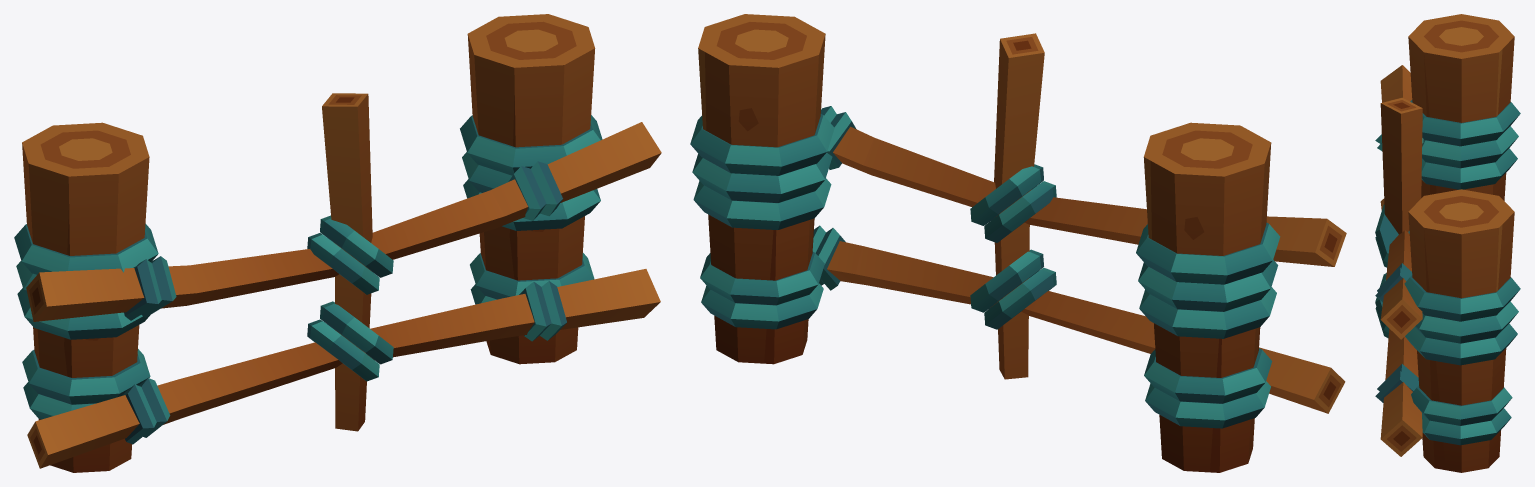
Rendered from fence.glb.
3 renders of one model, left to right at view 1: azimuth 30°, elevation 25°; view 2: azimuth 150°, elevation 25°; view 3: azimuth 270°, elevation 25°, orthographic. The views are drawn at different scales.
Parts seen in each view (by area): view 1: fence; view 2: fence; view 3: fence.
Boxes of the visible parts, x1,y1,x2,y2 form: fence: [14, 14, 661, 472]; fence: [690, 14, 1346, 472]; fence: [1375, 14, 1520, 472].
Bounding box in the file's own units: 1.18 × 0.6036 × 0.2987.
1 material, 1 textured.
